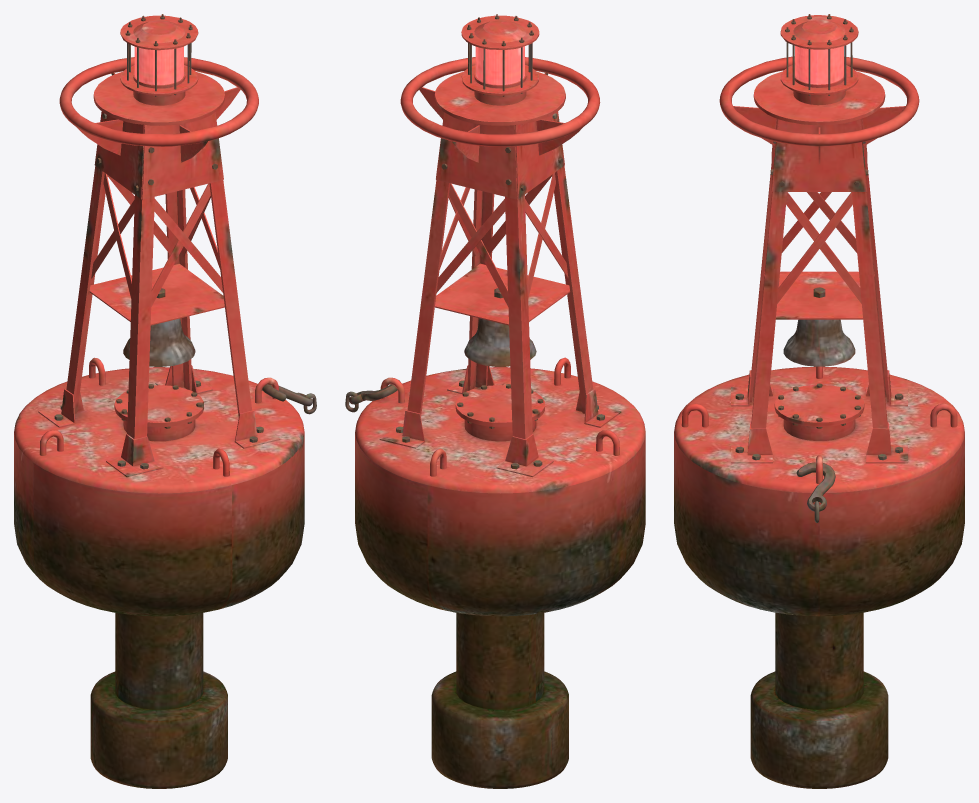
The model's file is buoy-ocean.4e35ae29.glb.
3 renders of one model, left to right at view 1: azimuth 30°, elevation 25°; view 2: azimuth 150°, elevation 25°; view 3: azimuth 270°, elevation 25°, orthographic.
Parts seen in each view (by area): view 1: model; view 2: model; view 3: model.
Boxes of the visible parts, box(x1,y1,x2,y2) form: model: box(14, 14, 316, 788); model: box(345, 14, 645, 788); model: box(674, 14, 964, 788).
Size of the model in its own units: 1.07 by 2.66 by 0.9521.
1 material, 1 textured.
